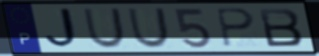5: (172, 6, 214, 49)
B: (256, 7, 305, 48)
J: (43, 7, 85, 50)
P: (213, 7, 257, 49)
U: (81, 7, 128, 50), (126, 7, 172, 50)
